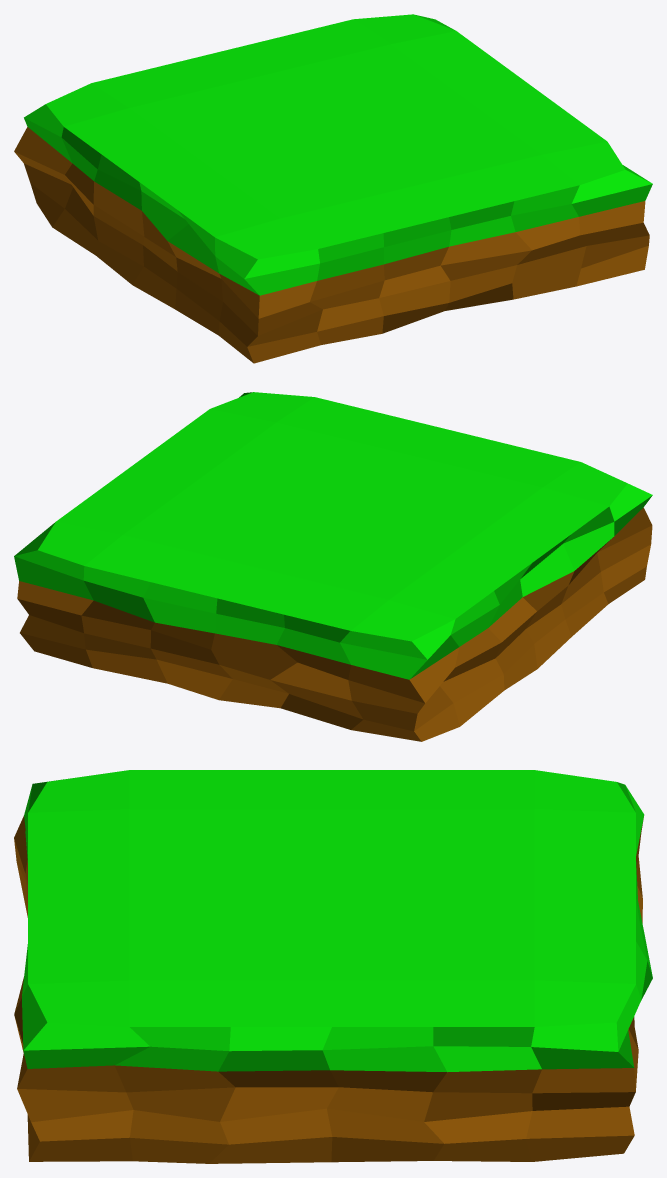
File: ground2.fbx
The picture shows the model from 3 angles, top to bottom: view 1: azimuth 30°, elevation 25°; view 2: azimuth 150°, elevation 25°; view 3: azimuth 270°, elevation 25°; orthographic projection. The views are drawn at different scales.
Visible parts, largest first — view 1: Cube; view 2: Cube; view 3: Cube.
Part boxes in pixels (x1,y1,x2,y2): Cube: [14, 14, 652, 363]; Cube: [14, 392, 652, 741]; Cube: [14, 770, 652, 1163].
Bounding box in the file's own units: 841 × 207 × 841.
